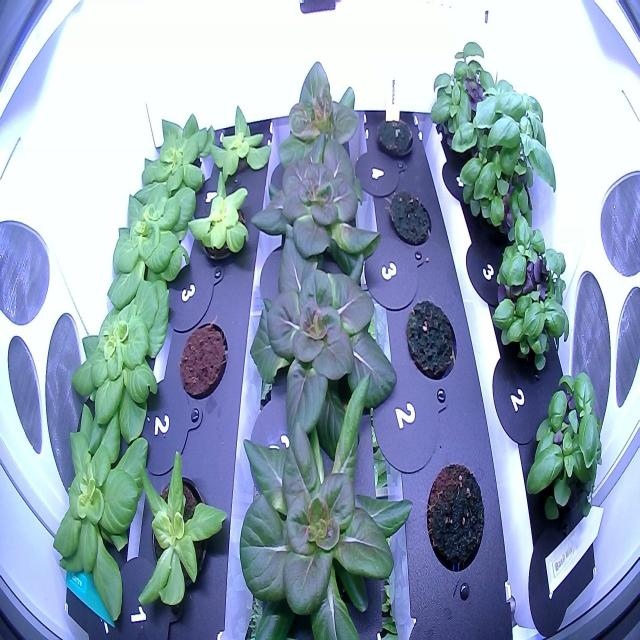germination: (373, 105, 417, 164)
pod: (422, 451, 490, 583), (402, 288, 462, 396), (172, 312, 232, 407), (386, 181, 435, 248)
young: (227, 355, 420, 640), (246, 220, 404, 458), (49, 401, 154, 625), (247, 120, 386, 288), (132, 438, 238, 618), (68, 273, 178, 444), (106, 172, 199, 294), (274, 49, 362, 166), (134, 98, 218, 195), (182, 169, 255, 268), (206, 93, 276, 193)
